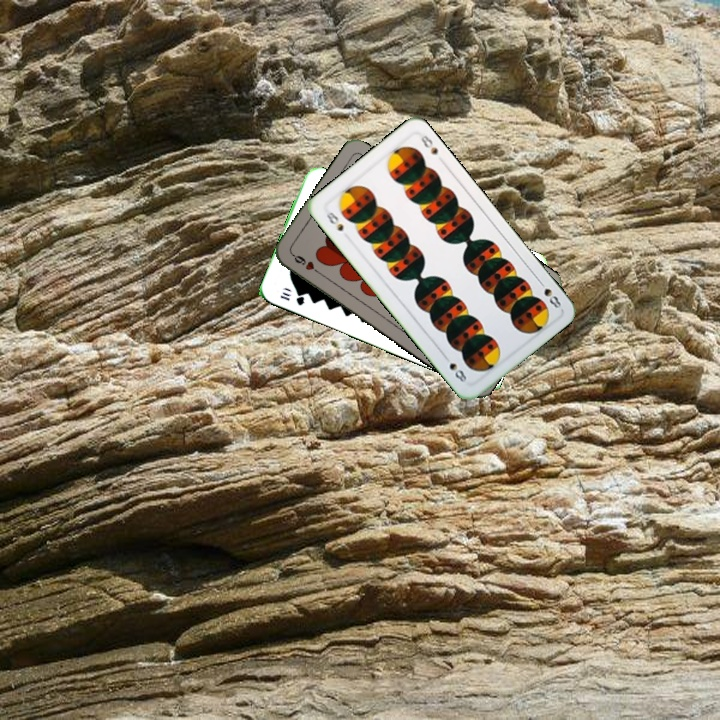G10: (276, 287, 307, 308)
H9: (288, 250, 324, 277)
S8: (533, 276, 564, 311), (322, 208, 346, 234)
